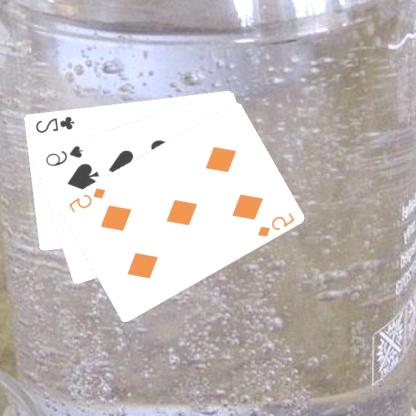2C: (34, 113, 77, 134)
5D: (66, 185, 108, 214), (256, 209, 297, 238)
9S: (44, 142, 86, 168)
